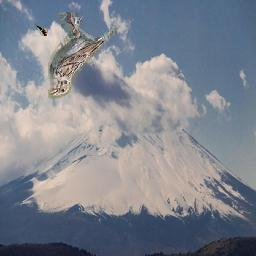Sparrow: (49, 13, 120, 100)
Swallow: (36, 24, 49, 36)
